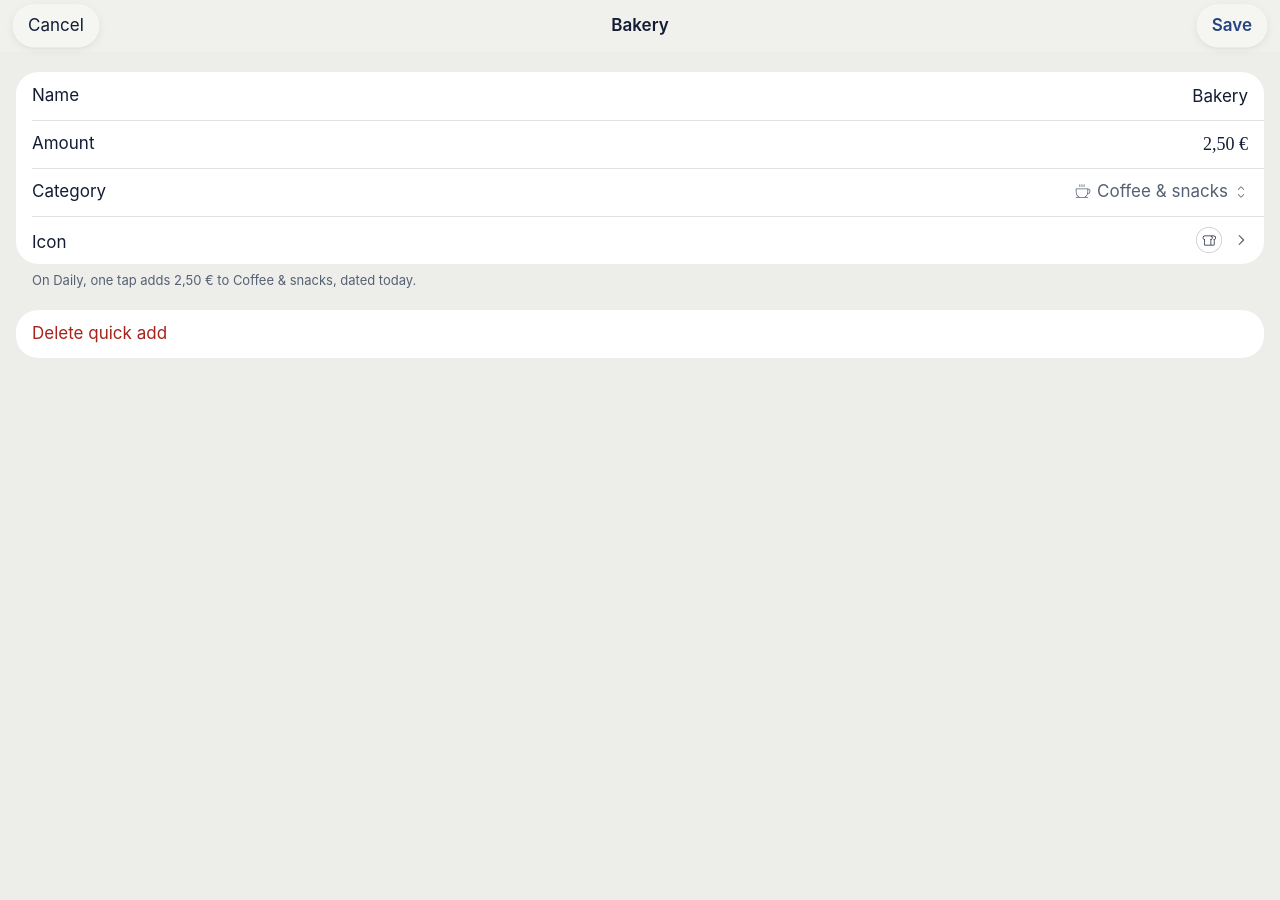
QuickAddSheet (SPEC §3.7) › deletes with Undo
What coordinates should you click on to do the following:
click the button "Delete quick add"
I would click on:
 (100, 333)
Its box is [16, 310, 1264, 358].
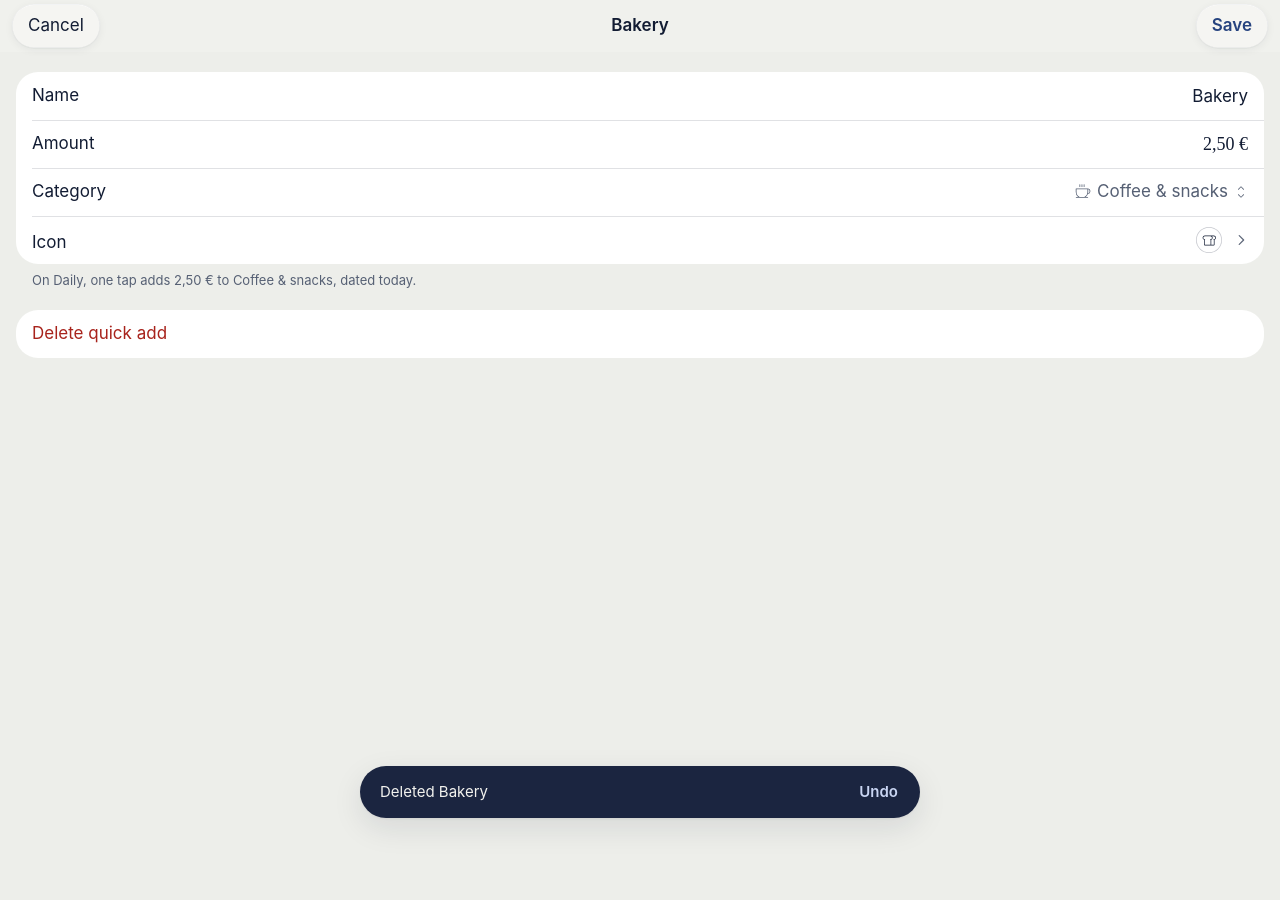
Expected: the text "Deleted Bakery" is shown, [380, 782, 488, 801]
